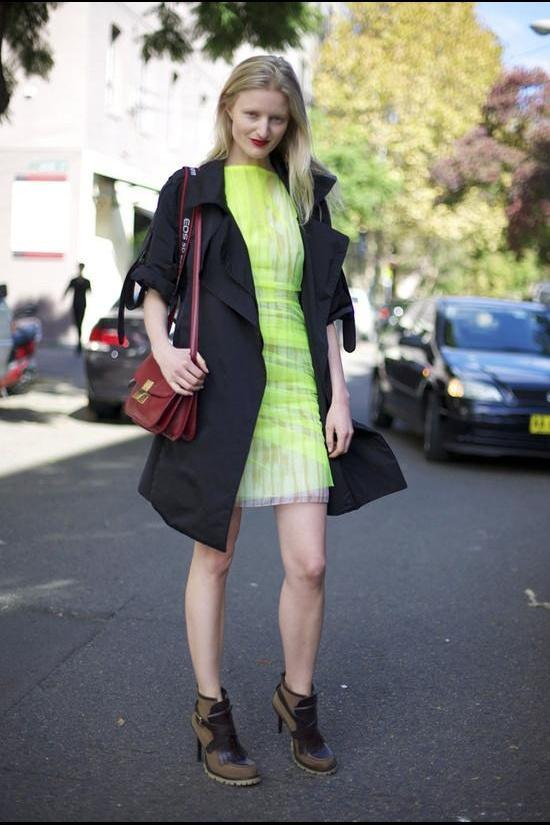dress: (185, 164, 329, 510)
sweater: (138, 160, 406, 552)
